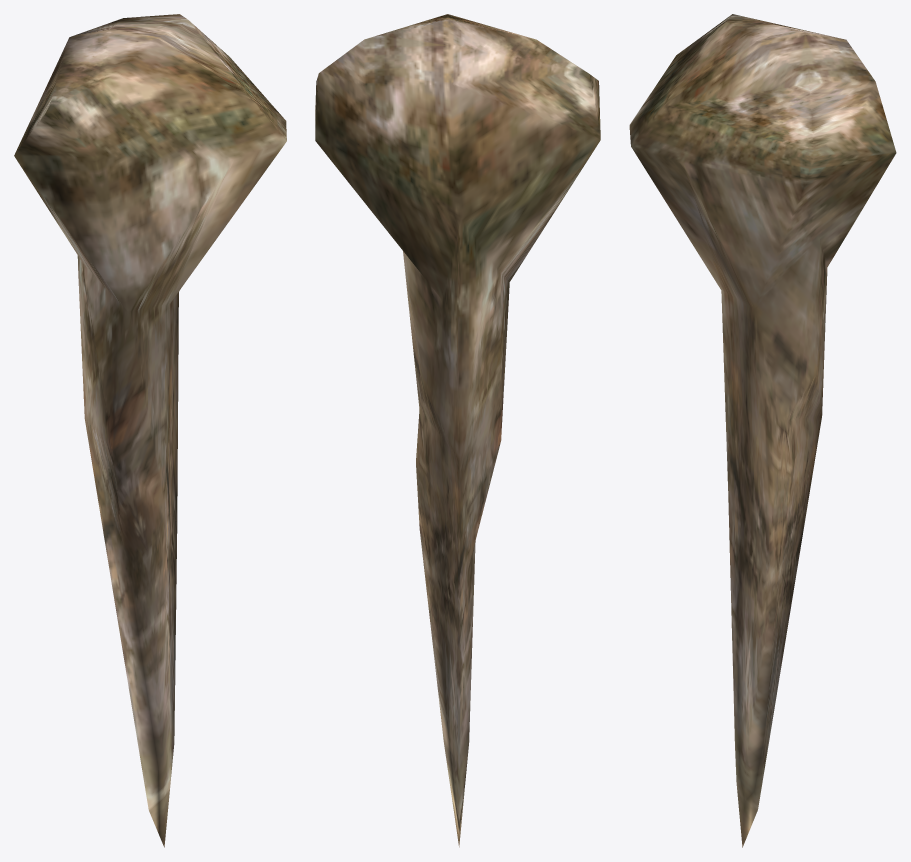
File: thm_all_cave_stalagtite_b2_l0.fbx
3 views of the same model, side by side, from view 1: azimuth 30°, elevation 25°; view 2: azimuth 150°, elevation 25°; view 3: azimuth 270°, elevation 25° (orthographic). The views are drawn at different scales.
Parts seen in each view (by area): view 1: mesh_node; view 2: mesh_node; view 3: mesh_node.
Boxes of the visible parts, bbox=[...] form: mesh_node: bbox=[14, 14, 286, 847]; mesh_node: bbox=[315, 14, 600, 847]; mesh_node: bbox=[629, 14, 896, 847].
Size of the model in its own units: 1.25 by 3.81 by 1.14.
